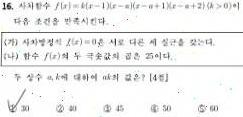choice: (5, 97, 19, 114)
not-choice: (102, 102, 113, 113), (196, 103, 207, 114), (54, 103, 65, 113), (149, 103, 159, 114)
